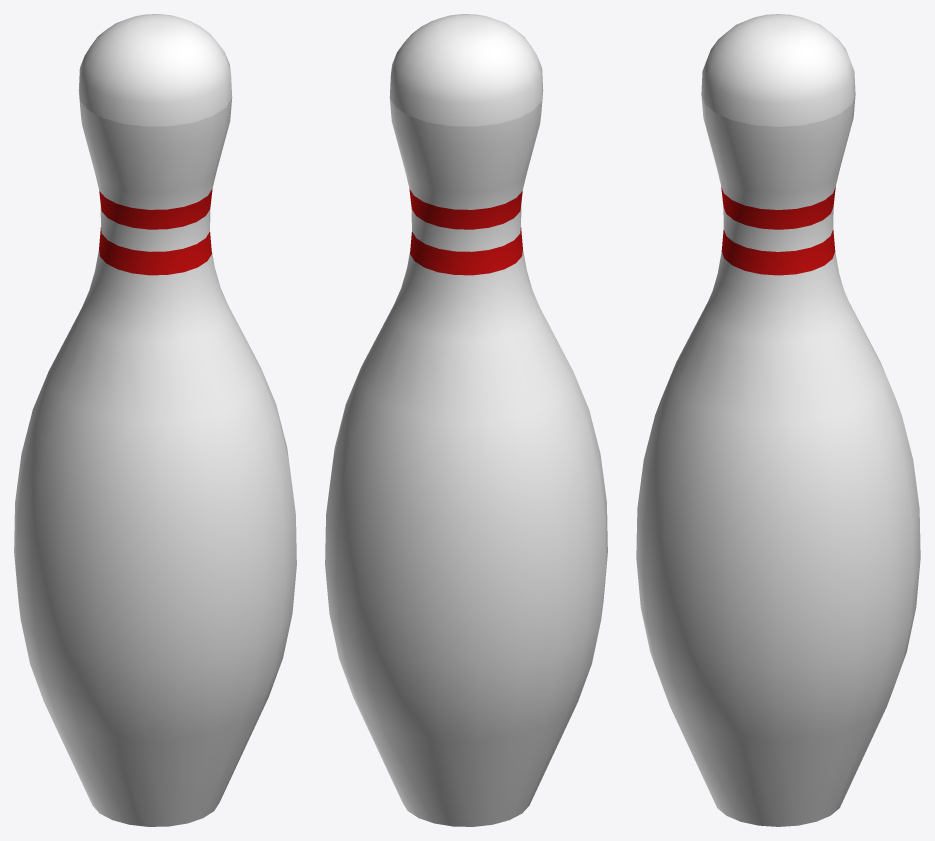
Rendered from butilka.fbx.
3 renders of one model, left to right at view 1: azimuth 30°, elevation 25°; view 2: azimuth 150°, elevation 25°; view 3: azimuth 270°, elevation 25°, orthographic.
Parts seen in each view (by area): view 1: Cylinder; view 2: Cylinder; view 3: Cylinder.
Boxes of the visible parts, x1=… form: Cylinder: x1=14, y1=14, x2=296, y2=826; Cylinder: x1=325, y1=14, x2=607, y2=826; Cylinder: x1=636, y1=14, x2=920, y2=826.
Bounding box in the file's own units: 50.58 × 152 × 50.58.
